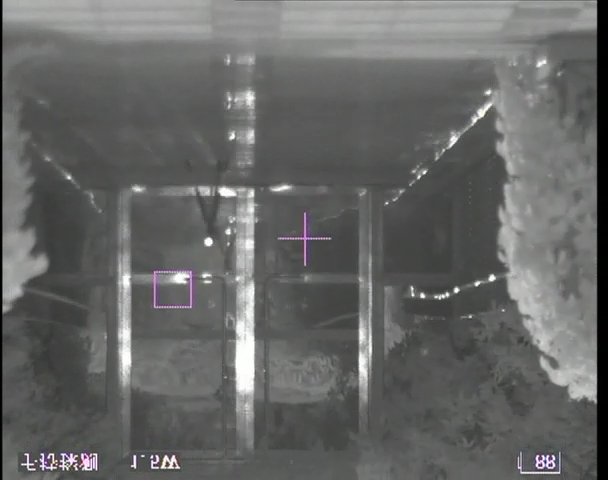my: (202, 235, 214, 247)
